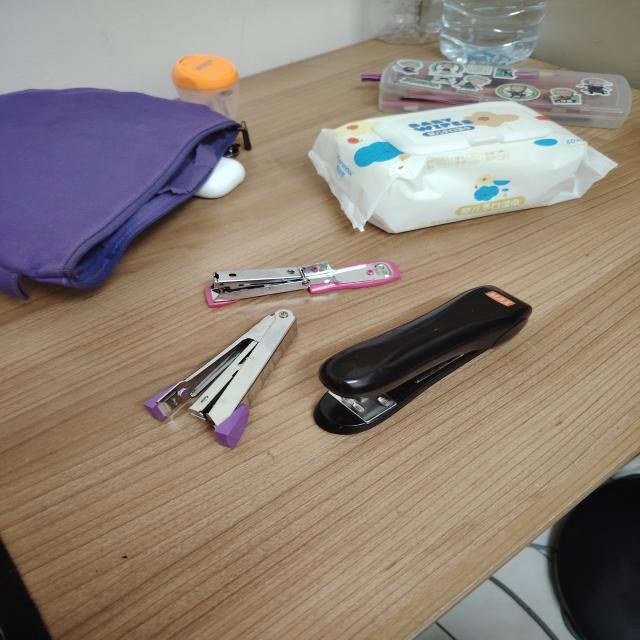sharpener: (172, 54, 239, 119)
stapler: (314, 286, 531, 434), (143, 309, 297, 448), (205, 261, 401, 308)
